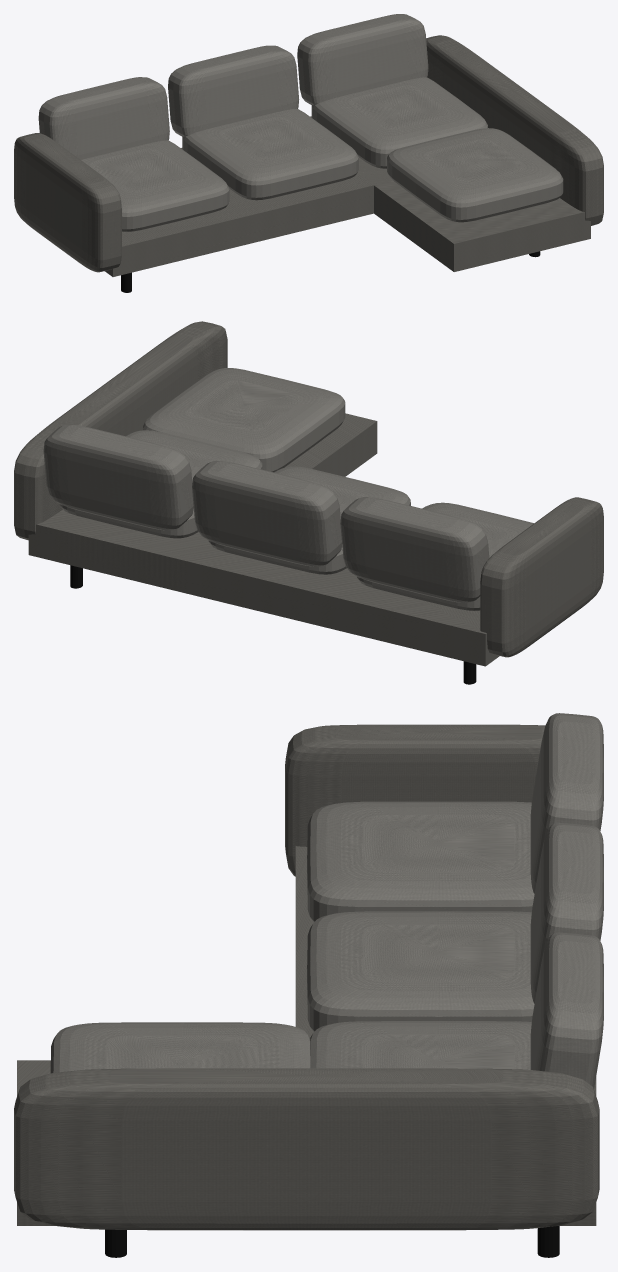
Rendered from sofa-corner_lod1.glb.
3 renders of one model, top to bottom at view 1: azimuth 30°, elevation 25°; view 2: azimuth 150°, elevation 25°; view 3: azimuth 270°, elevation 25°, orthographic. The views are drawn at different scales.
Visible parts, largest first — view 1: chaise_seat, base_main, arm_right_chaise, seat_2, arm_left, base_chaise, seat_3, back_3, back_2, seat_1, back_1; view 2: base_main, arm_left, chaise_seat, back_3, back_2, arm_right_chaise, back_1, base_chaise, seat_3, seat_2, seat_1; view 3: arm_right_chaise, seat_1, seat_2, arm_left, chaise_seat, seat_3, back_3, back_1, back_2, base_main, base_chaise.
Part boxes in pixels (left/top/right/bottom): chaise_seat: left=387, top=128, right=563, bottom=222; base_main: left=105, top=116, right=392, bottom=276; arm_right_chaise: left=426, top=35, right=603, bottom=225; seat_2: left=182, top=108, right=358, bottom=200; arm_left: left=14, top=133, right=121, bottom=272; base_chaise: left=310, top=116, right=590, bottom=271; seat_3: left=311, top=77, right=487, bottom=168; back_3: left=297, top=14, right=428, bottom=104; back_2: left=168, top=45, right=299, bottom=136; seat_1: left=81, top=140, right=229, bottom=231; back_1: left=38, top=77, right=169, bottom=159; base_main: left=36, top=509, right=499, bottom=666; arm_left: left=480, top=497, right=603, bottom=657; chaise_seat: left=143, top=368, right=345, bottom=472; back_3: left=43, top=424, right=193, bottom=530; back_2: left=192, top=460, right=341, bottom=566; arm_right_chaise: left=14, top=321, right=227, bottom=540; back_1: left=340, top=497, right=489, bottom=602; base_chaise: left=28, top=413, right=377, bottom=593; seat_3: left=60, top=430, right=262, bottom=538; seat_2: left=208, top=466, right=410, bottom=574; seat_1: left=357, top=502, right=533, bottom=610; arm_right_chaise: left=14, top=1068, right=599, bottom=1230; seat_1: left=307, top=801, right=534, bottom=922; seat_2: left=307, top=911, right=534, bottom=1031; arm_left: left=285, top=724, right=545, bottom=876; chaise_seat: left=50, top=1022, right=310, bottom=1073; seat_3: left=310, top=1021, right=531, bottom=1069; back_3: left=530, top=932, right=603, bottom=1088; back_1: left=530, top=713, right=603, bottom=893; back_2: left=530, top=823, right=603, bottom=1003; base_main: left=295, top=846, right=313, bottom=1037; base_chaise: left=17, top=1060, right=596, bottom=1225.
Size of the model in its own units: 2.8 by 0.88 by 1.9.
Materials: 3 (3 with a texture image).
